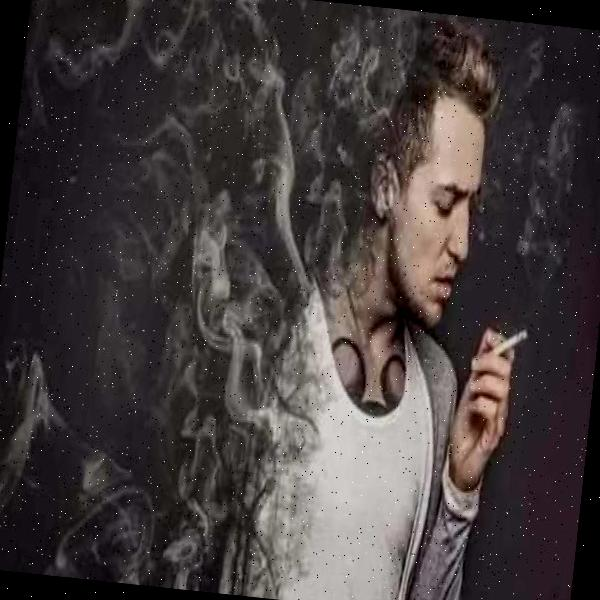smoke: (0, 0, 314, 585), (499, 106, 578, 275), (318, 1, 407, 120)
